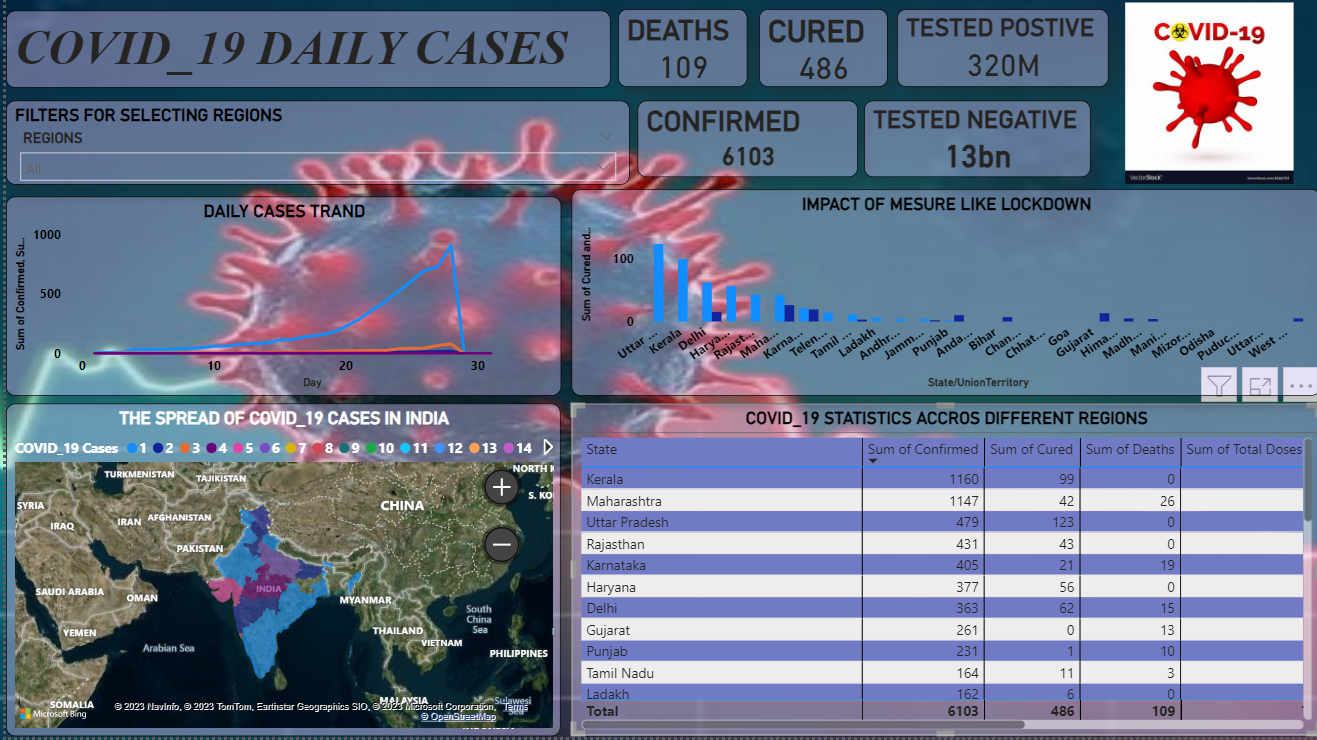

The page's visual inventory and layout, read from the dashboard file:
{"tool":"powerbi","page":{"name":"DASHBOARD","canvas":[1280,720],"ordinal":0},"visuals":[{"type":"lineChart","title":"DAILY CASES TRAND","fields":{"Category":["covid_19_india.Date.Variation.Date Hierarchy.Day"],"Y":["Sum(covid_19_india.Confirmed)","Sum(covid_19_india.Deaths)","Sum(covid_19_india.Cured)","Sum(StatewiseTestingDetails.TotalSamples)"]},"box":[0,193.8,540.5,193.8],"z":0},{"type":"filledMap","title":"THE SPREAD OF COVID_19 CASES IN INDIA","fields":{"Series":["covid_19_india.Confirmed"],"Category":["covid_19_india.State/UnionTerritory"]},"box":[0,395.1,540.2,323.7],"z":1000},{"type":"tableEx","title":"COVID_19 STATISTICS ACCROS DIFFERENT REGIONS","fields":{"Values":["StatewiseTestingDetails.State","Sum(covid_19_india.Confirmed)","Sum(covid_19_india.Cured)","Sum(covid_19_india.Deaths)","Sum(covid_vaccine_statewise.Total Doses Administered)","Sum(covid_vaccine_statewise.Total Individuals Vaccinated)","Sum(StatewiseTestingDetails.TotalSamples)"]},"box":[550.7,395.1,729.3,323.7],"z":1001},{"type":"slicer","title":"FILTERS FOR SELECTING REGIONS","fields":{"Values":["covid_19_india.State/UnionTerritory"]},"box":[0,100.9,607.4,82],"z":1002},{"type":"clusteredColumnChart","title":"IMPACT OF MESURE LIKE LOCKDOWN","fields":{"Y":["Sum(covid_19_india.Cured)","Sum(covid_19_india.Deaths)"],"Category":["covid_19_india.State/UnionTerritory"]},"box":[550.8,186.7,729.2,201],"z":1003},{"type":"textbox","box":[0,12.6,588.5,75.7],"z":1004},{"type":"image","box":[1083.1,0,175.4,186.7],"z":1006},{"type":"card","title":"DEATHS","fields":{"Values":["Sum(covid_19_india.Deaths)"]},"box":[595.9,12.3,126.2,75.9],"z":1007},{"type":"card","title":"CURED","fields":{"Values":["Sum(covid_19_india.Cured)"]},"box":[733.3,12.3,125.1,75.9],"z":1008},{"type":"card","title":"TESTED POSTIVE","fields":{"Values":["Sum(StatewiseTestingDetails.Positive)"]},"box":[867.7,12.3,206.2,75.9],"z":1009},{"type":"card","title":"CONFIRMED","fields":{"Values":["Sum(covid_19_india.Confirmed)"]},"box":[614.4,100.5,214.4,74.9],"z":1010},{"type":"card","title":"TESTED NEGATIVE","fields":{"Values":["Sum(StatewiseTestingDetails.Negative)"]},"box":[835.9,100.5,220.5,74.9],"z":1011}]}

Visuals, with their boxes in screenshot pixels (x1, y1, x2, y2), scaled from the page's 1280x720 canvas onto the 1317x740 screenshot:
"DAILY CASES TRAND" lineChart: rect(0, 199, 556, 398)
"THE SPREAD OF COVID_19 CASES IN INDIA" filledMap: rect(0, 406, 556, 739)
"COVID_19 STATISTICS ACCROS DIFFERENT REGIONS" tableEx: rect(567, 406, 1316, 739)
"FILTERS FOR SELECTING REGIONS" slicer: rect(0, 104, 625, 188)
"IMPACT OF MESURE LIKE LOCKDOWN" clusteredColumnChart: rect(567, 192, 1316, 398)
textbox: rect(0, 13, 606, 91)
image: rect(1114, 0, 1295, 192)
"DEATHS" card: rect(613, 13, 743, 91)
"CURED" card: rect(754, 13, 883, 91)
"TESTED POSTIVE" card: rect(893, 13, 1105, 91)
"CONFIRMED" card: rect(632, 103, 853, 180)
"TESTED NEGATIVE" card: rect(860, 103, 1087, 180)
